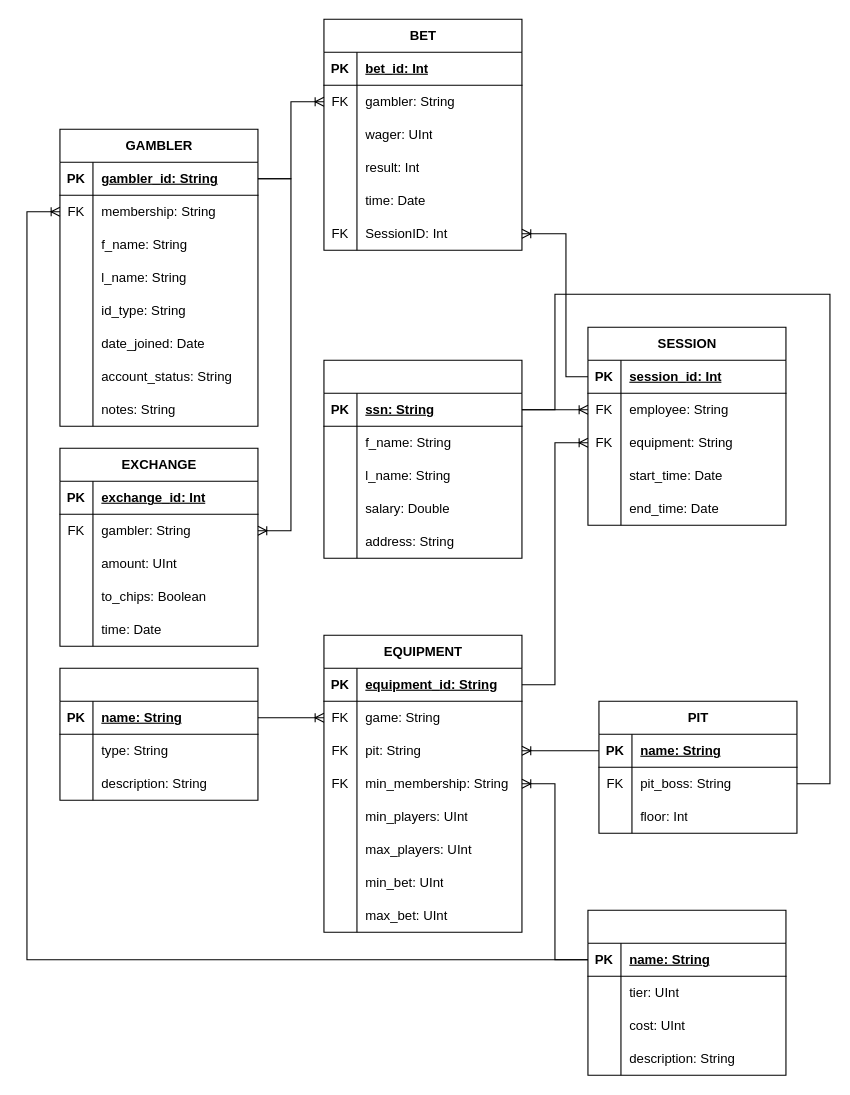
Image size: 850x1095. Some labels were removed from this diagram. The box of each missing label's shape, as (x1, y1, x2, y2) in pixels:
EMPLOYEE: (323, 359, 522, 558)
GAME: (59, 667, 258, 800)
MEMBERSHIP: (587, 909, 786, 1075)
